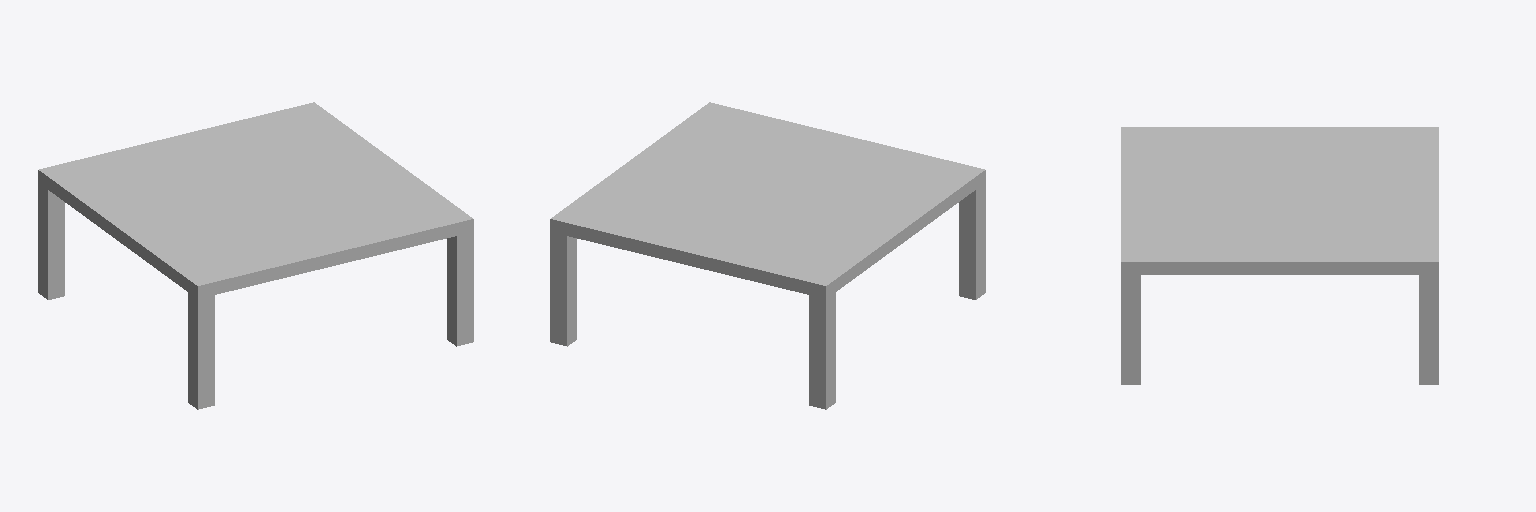
File: table.obj
3 renders of one model, left to right at view 1: azimuth 30°, elevation 25°; view 2: azimuth 150°, elevation 25°; view 3: azimuth 270°, elevation 25°, orthographic.
Visible parts, largest first — view 1: Cube; view 2: Cube; view 3: Cube.
Part boxes in pixels (x1,y1,x2,y2): Cube: (38,102,473,409); Cube: (550,102,985,409); Cube: (1121,127,1438,384).
Bounding box in the file's own units: 7 × 2.99 × 7.